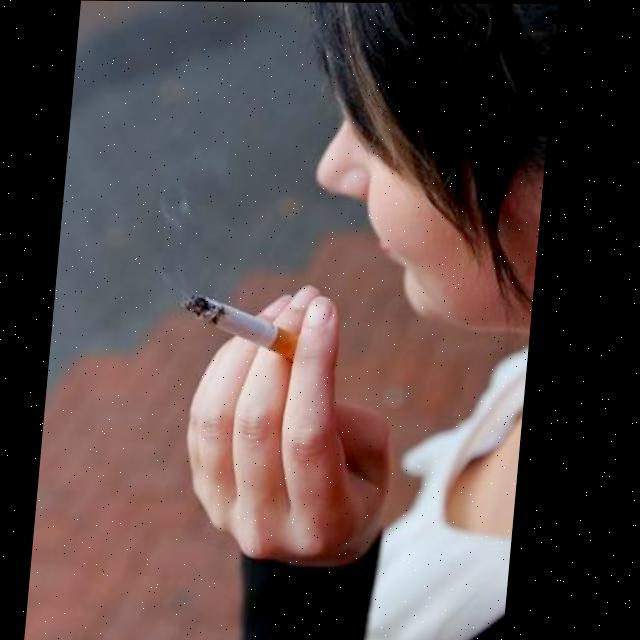cigarette: (181, 293, 307, 360)
